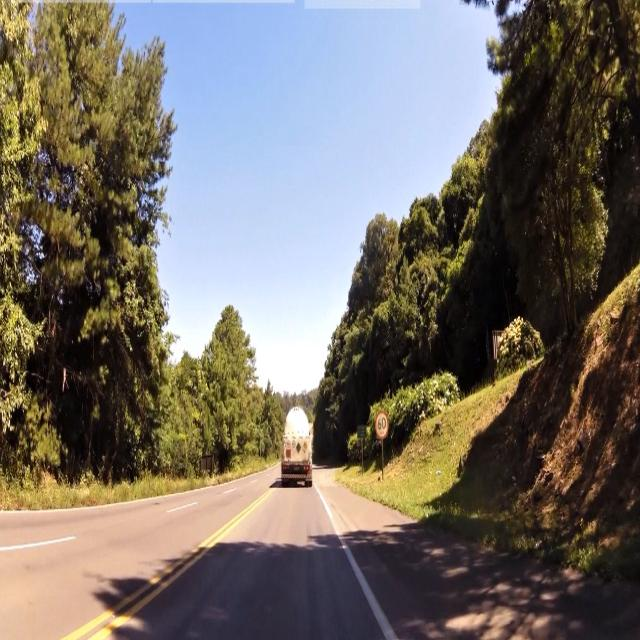R-19: (374, 412, 388, 438)
